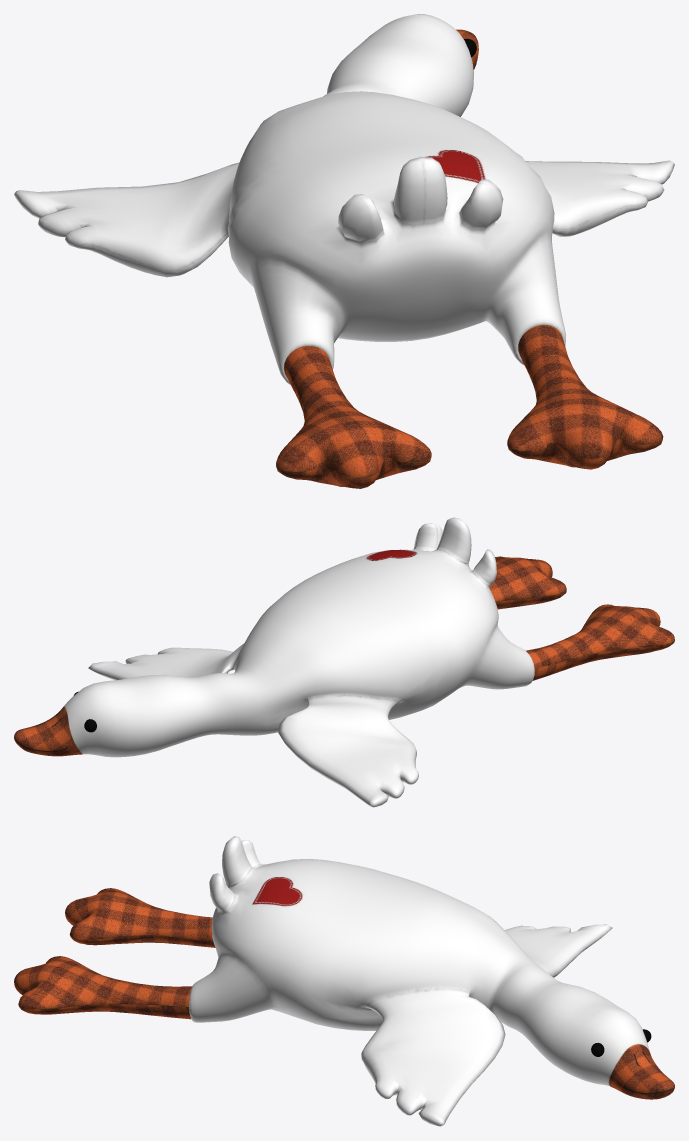
The model's file is duck.glb.
The picture shows the model from 3 angles, top to bottom: view 1: azimuth 30°, elevation 25°; view 2: azimuth 150°, elevation 25°; view 3: azimuth 270°, elevation 25°; orthographic projection. The views are drawn at different scales.
Parts seen in each view (by area): view 1: Duck-Body.001; view 2: Duck-Body.001; view 3: Duck-Body.001.
Boxes of the visible parts, x1,y1,x2,y2 form: Duck-Body.001: (14, 14, 674, 488); Duck-Body.001: (14, 517, 674, 807); Duck-Body.001: (14, 836, 674, 1126).
Bounding box in the file's own units: 0.4599 × 0.1546 × 0.5889.
1 material, 1 textured.
